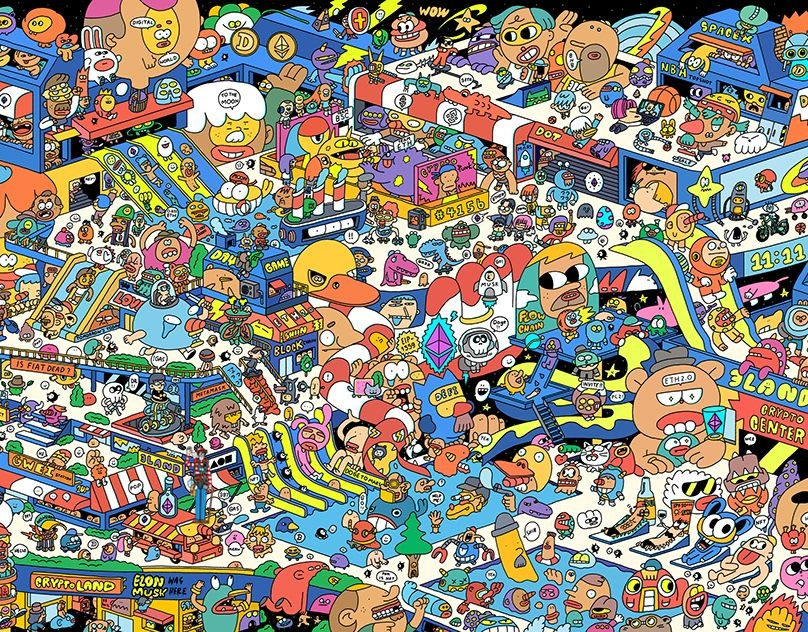waldo: (185, 446, 214, 524)
